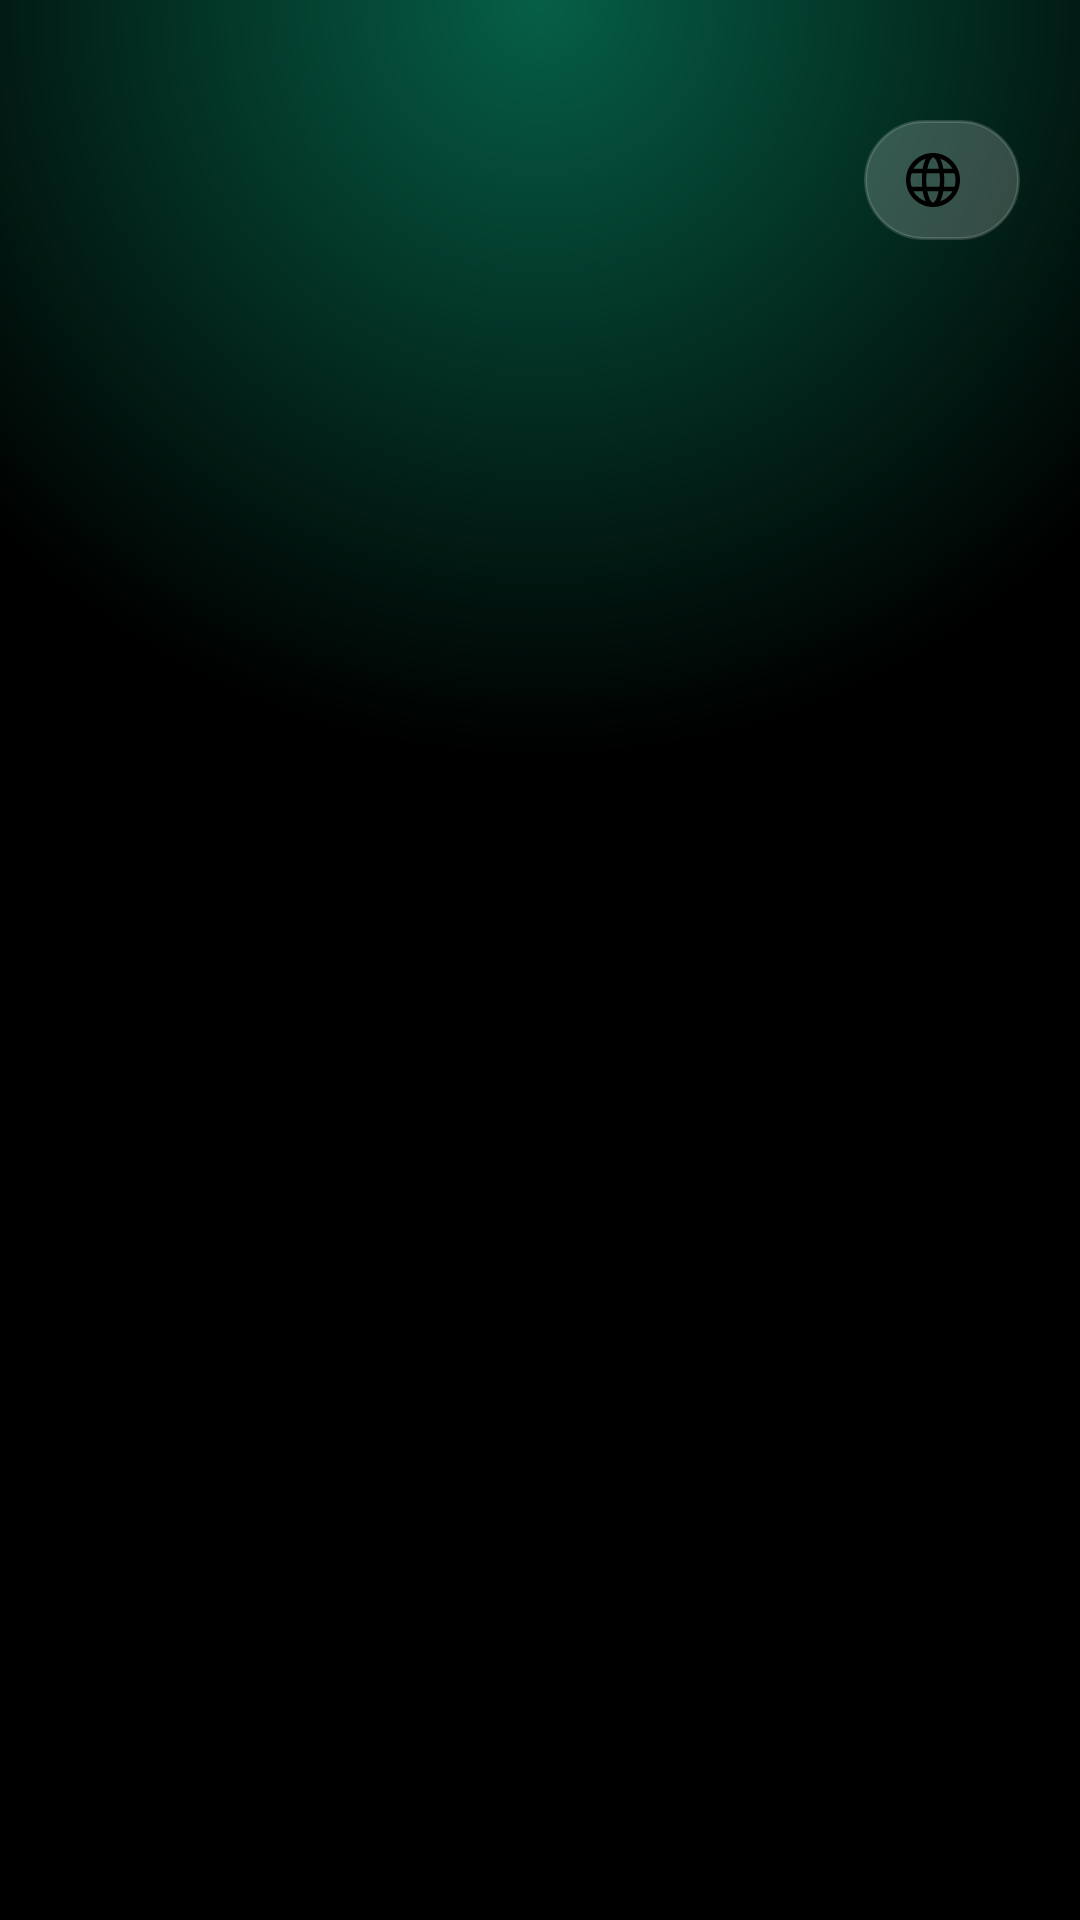

Icon click points for this 1080×1920 phone screenshot, format point (x, y):
Ngôn ngữ: point (933, 180)
